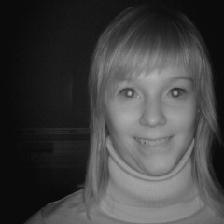happy: (75, 6, 222, 205)
